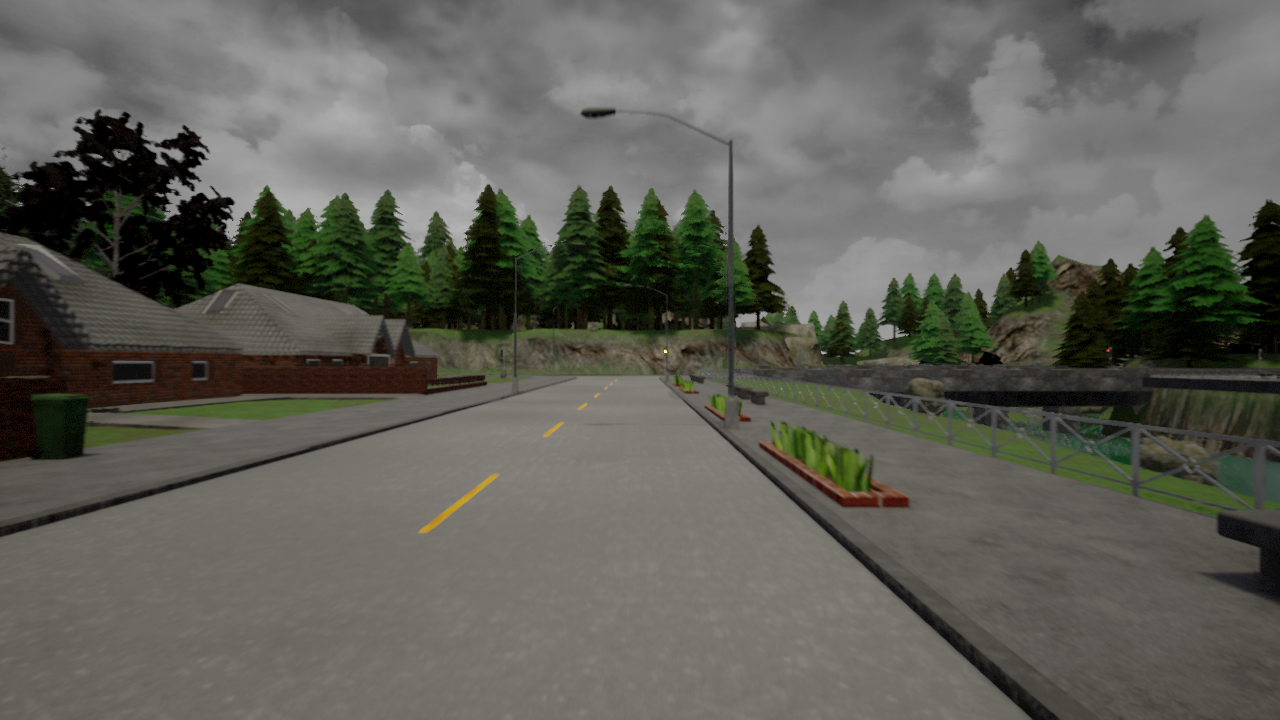yellow: (662, 346, 668, 358)
